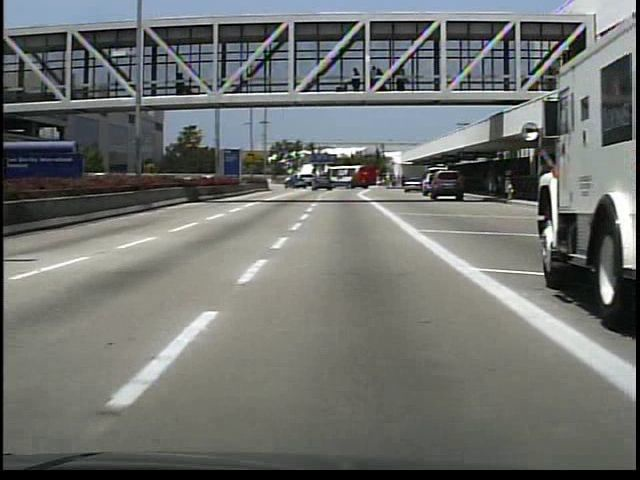person: (349, 64, 366, 94), (175, 70, 192, 97), (486, 171, 500, 200)
